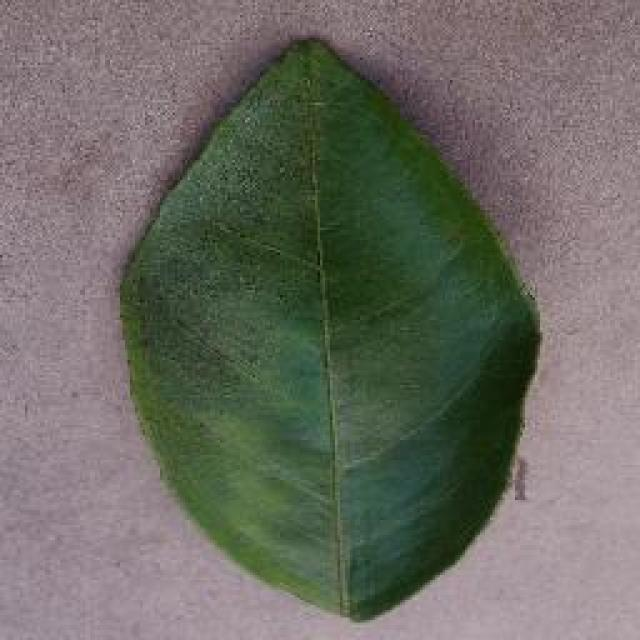Orange_Haunglongbing_Citrus_greening: (170, 125, 498, 543)
